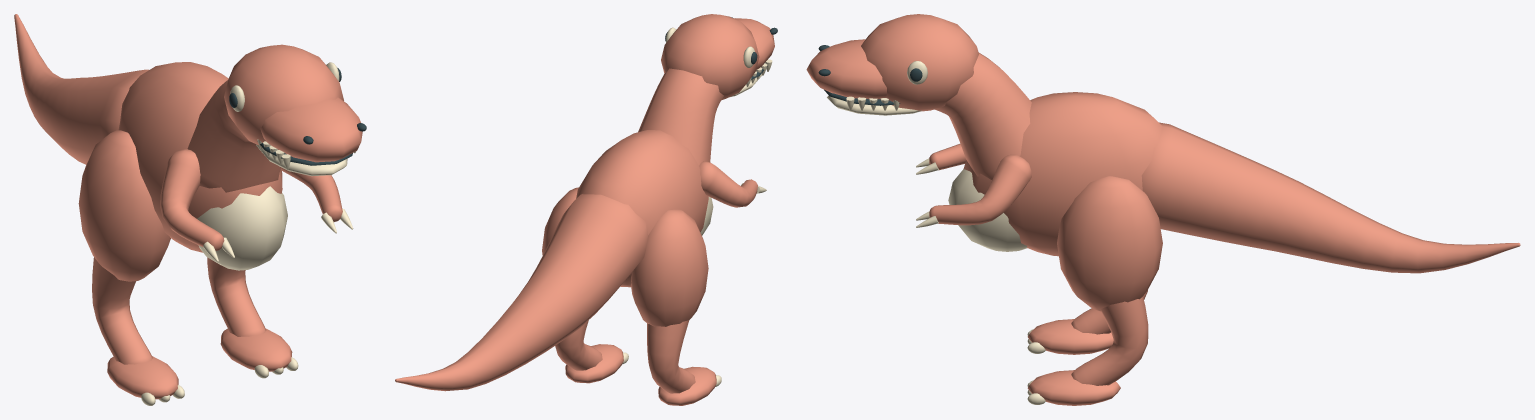
Rendered from lost-valley-dinosaurs-tyrannosaurus-9f9bfc75__1655.glb.
3 views of the same model, side by side, from view 1: azimuth 30°, elevation 25°; view 2: azimuth 150°, elevation 25°; view 3: azimuth 270°, elevation 25° (orthographic). The views are drawn at different scales.
Visible parts, largest first — view 1: tyrannosaurus; view 2: tyrannosaurus; view 3: tyrannosaurus.
Boxes of the visible parts, box(x1,y1,x2,y2) form: tyrannosaurus: box(14, 14, 366, 405); tyrannosaurus: box(395, 14, 777, 405); tyrannosaurus: box(806, 14, 1520, 405).
Bounding box in the file's own units: 1.6 × 3.19 × 5.79.
